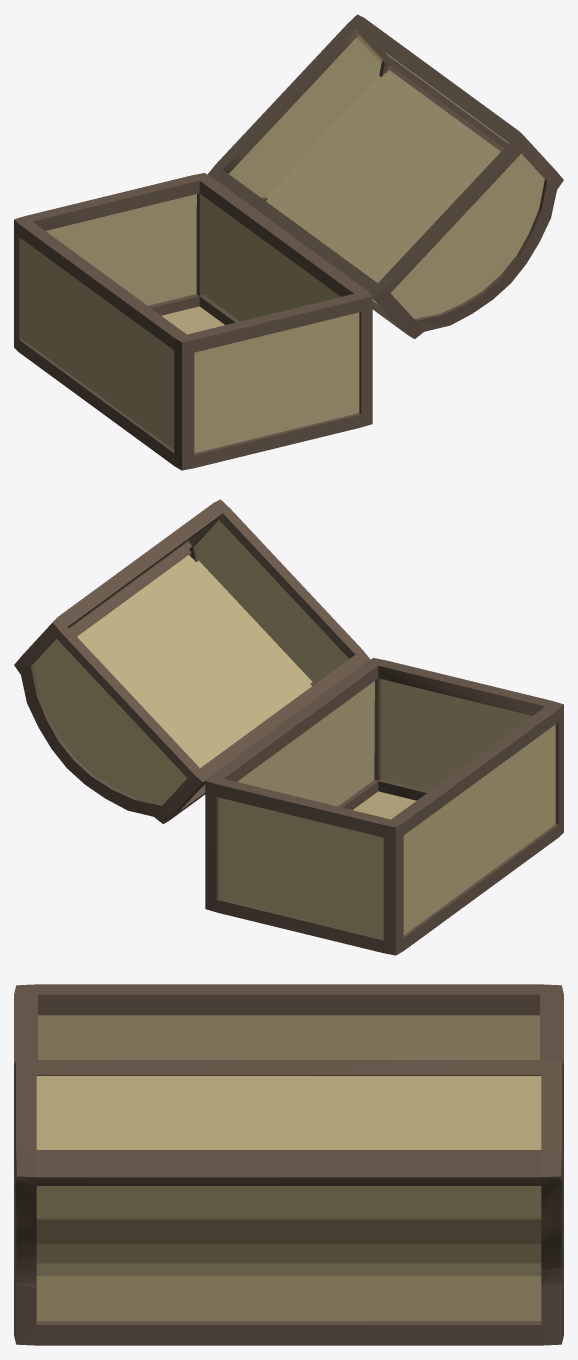
File: chest_01.fbx
3 views of the same model, one above another, from view 1: azimuth 30°, elevation 25°; view 2: azimuth 150°, elevation 25°; view 3: azimuth 270°, elevation 25° (orthographic). The views are drawn at different scales.
Visible parts, largest first — view 1: Verkleidung_Unten, Verkleidung_Oben, Rahmen_Unten, Rahmen_Oben; view 2: Verkleidung_Unten, Verkleidung_Oben, Rahmen_Unten, Rahmen_Oben; view 3: Verkleidung_Oben, Verkleidung_Unten, Rahmen_Oben, Rahmen_Unten.
Part boxes in pixels (<box>): Verkleidung_Unten: <box>22,194,359,453</box>; Verkleidung_Oben: <box>229,35,544,318</box>; Rahmen_Unten: <box>14,173,372,470</box>; Rahmen_Oben: <box>207,14,563,338</box>; Verkleidung_Unten: <box>218,679,555,938</box>; Verkleidung_Oben: <box>33,520,348,803</box>; Rahmen_Unten: <box>205,658,563,955</box>; Rahmen_Oben: <box>14,499,370,823</box>; Verkleidung_Oben: <box>36,1076,541,1281</box>; Verkleidung_Unten: <box>36,1015,541,1320</box>; Rahmen_Oben: <box>14,1060,563,1287</box>; Rahmen_Unten: <box>14,984,563,1345</box>.
Bounding box in the file's own units: 75.12 × 46.97 × 57.35.
